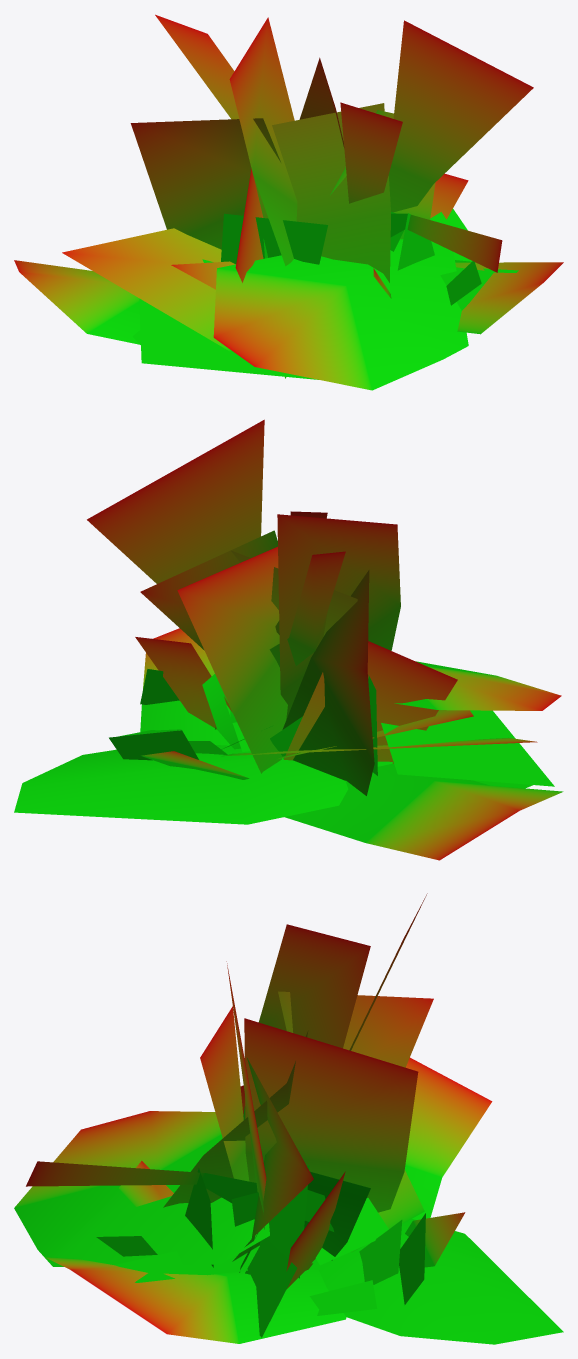
File: DrySet01_Var4_LOD1.fbx
3 renders of one model, top to bottom at view 1: azimuth 30°, elevation 25°; view 2: azimuth 150°, elevation 25°; view 3: azimuth 270°, elevation 25°, orthographic. The views are drawn at different scales.
Parts seen in each view (by area): view 1: DrySet01_Var4_LOD1; view 2: DrySet01_Var4_LOD1; view 3: DrySet01_Var4_LOD1.
Boxes of the visible parts, x1,y1,x2,y2 form: DrySet01_Var4_LOD1: (14,14,563,390); DrySet01_Var4_LOD1: (14,419,563,860); DrySet01_Var4_LOD1: (14,893,563,1344).
Bounding box in the file's own units: 82.69 × 59.25 × 74.01.
